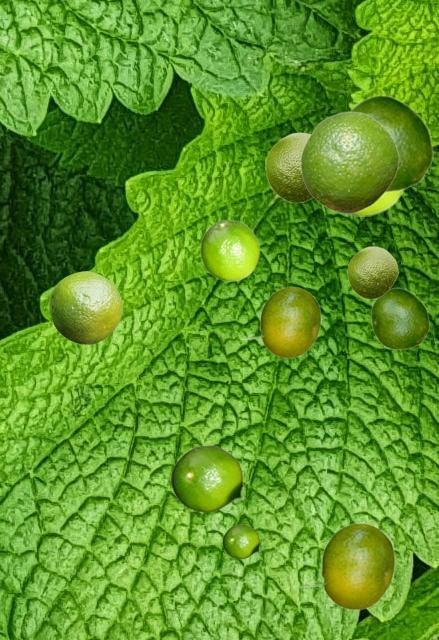calamansi: (300, 111, 398, 213), (296, 522, 394, 609), (349, 94, 433, 192), (239, 286, 320, 357), (170, 445, 251, 512), (49, 271, 121, 343), (370, 287, 429, 349), (200, 219, 259, 280), (265, 132, 312, 202), (347, 246, 397, 298), (340, 190, 407, 215), (222, 524, 263, 558)
